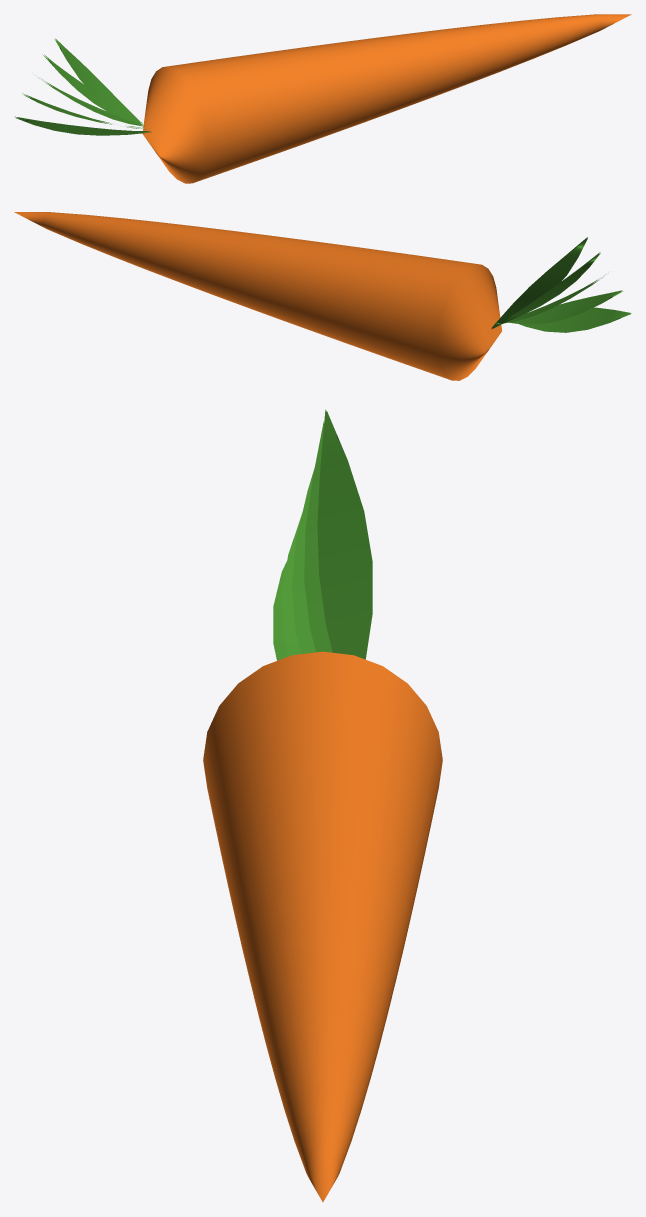
Rendered from carrot.glb.
The picture shows the model from 3 angles, top to bottom: view 1: azimuth 30°, elevation 25°; view 2: azimuth 150°, elevation 25°; view 3: azimuth 270°, elevation 25°; orthographic projection. The views are drawn at different scales.
Parts seen in each view (by area): view 1: package_mesh; view 2: package_mesh; view 3: package_mesh.
Part boxes in pixels (x1,y1,x2,y2): package_mesh: (15, 14, 631, 183); package_mesh: (14, 212, 631, 380); package_mesh: (203, 409, 442, 1201).
Size of the model in its own units: 0.6309 by 0.1666 by 0.1061.
